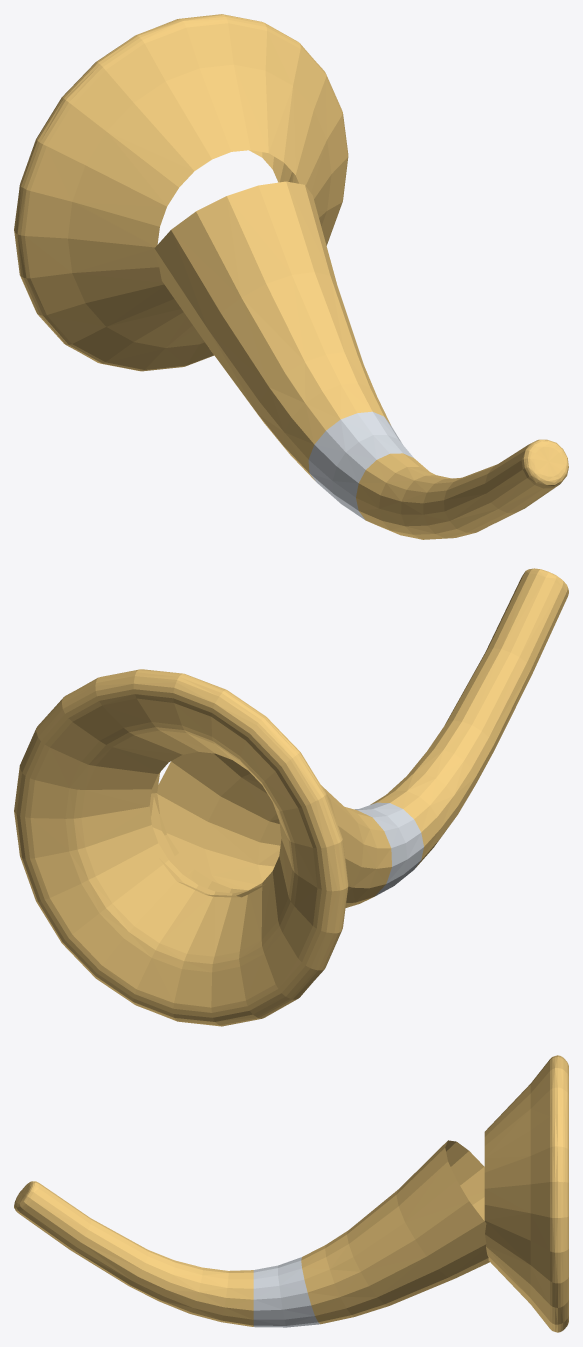
File: PropHorn.obj
The picture shows the model from 3 angles, top to bottom: view 1: azimuth 30°, elevation 25°; view 2: azimuth 150°, elevation 25°; view 3: azimuth 270°, elevation 25°; orthographic projection. The views are drawn at different scales.
Bounding box in the file's own units: 0.602 × 0.613 × 1.2.
